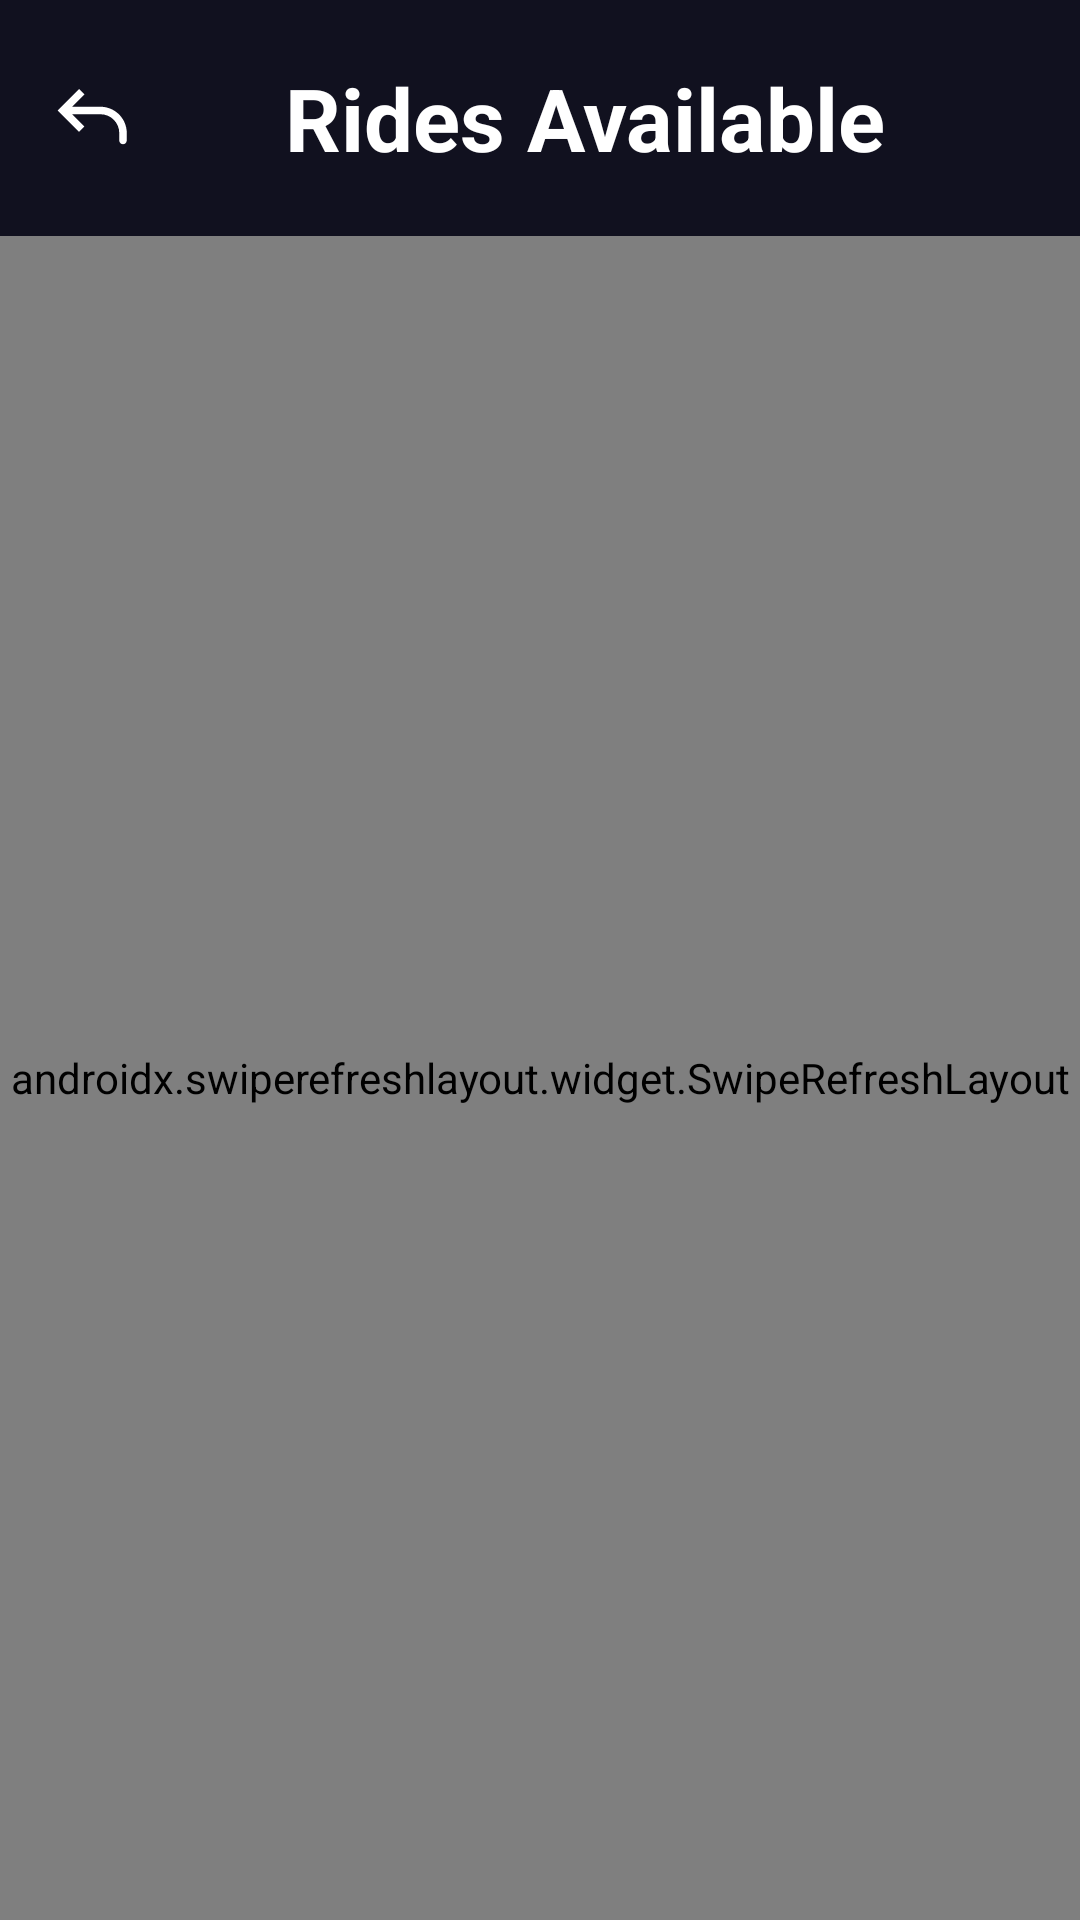

Screen size 1080×1920. Icon name, then its center in pixels as (x=x, y=y):
back: (x=92, y=117)
